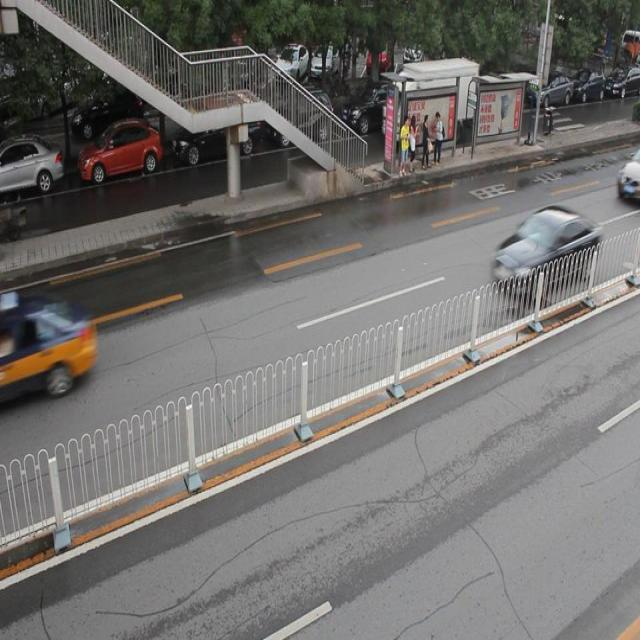bus: (384, 60, 484, 136)
car: (0, 287, 100, 399), (493, 206, 597, 292), (172, 106, 262, 170), (80, 120, 160, 183), (268, 89, 335, 148), (0, 138, 64, 199), (340, 83, 402, 136), (614, 149, 640, 204)
